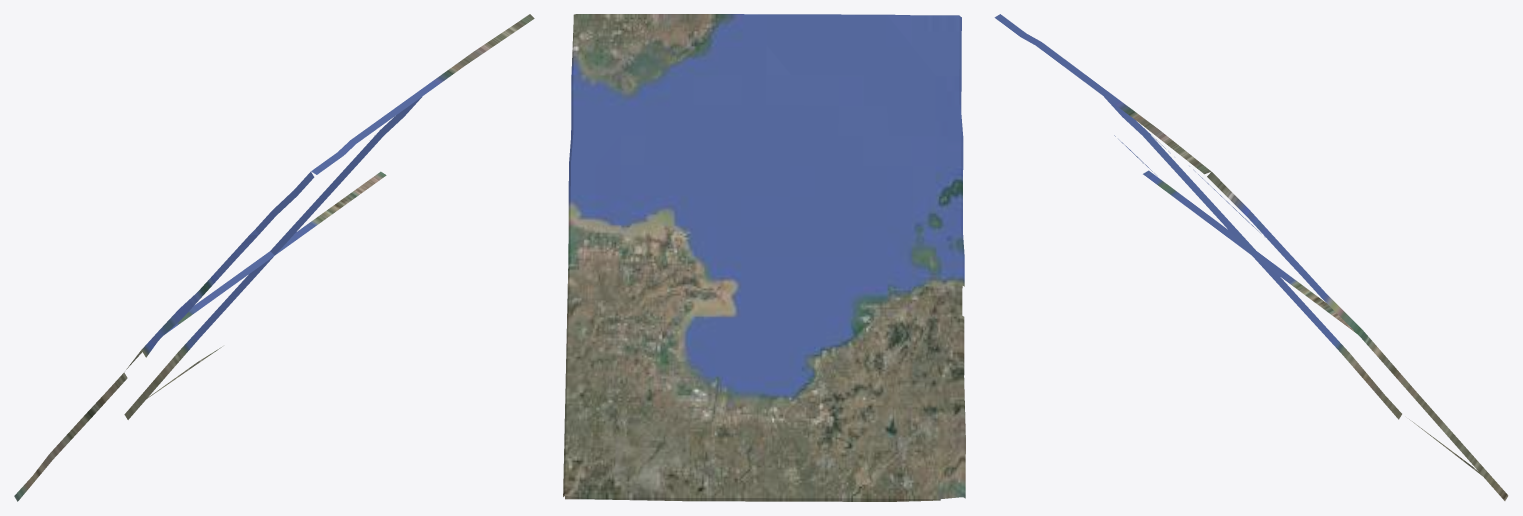
The picture shows the model from 3 angles, left to right: view 1: azimuth 30°, elevation 25°; view 2: azimuth 150°, elevation 25°; view 3: azimuth 270°, elevation 25°; orthographic projection. The views are drawn at different scales.
Size of the model in its own units: 312093 by 250740 by 292876.
Materials: 1 (1 with a texture image).
